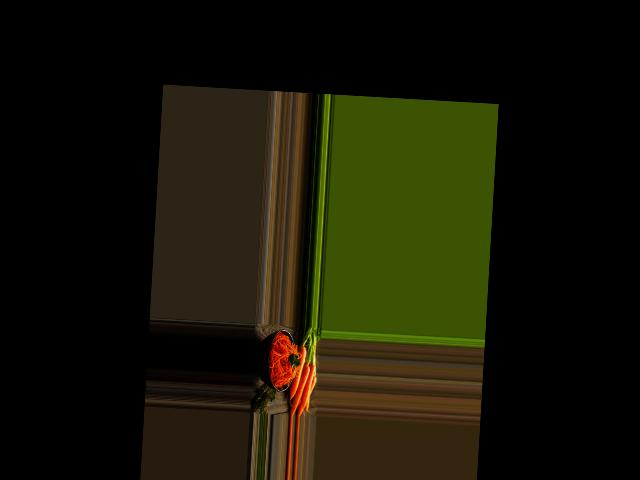carrot: (288, 341, 307, 403)
